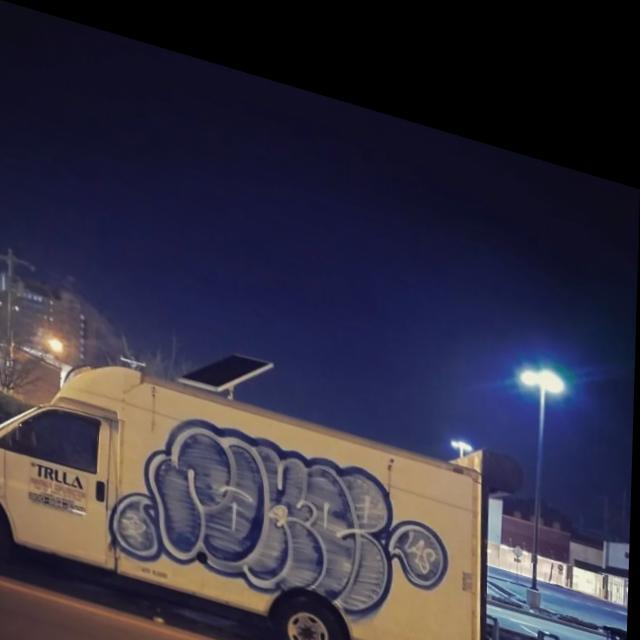nonspitting: (112, 417, 449, 620)
